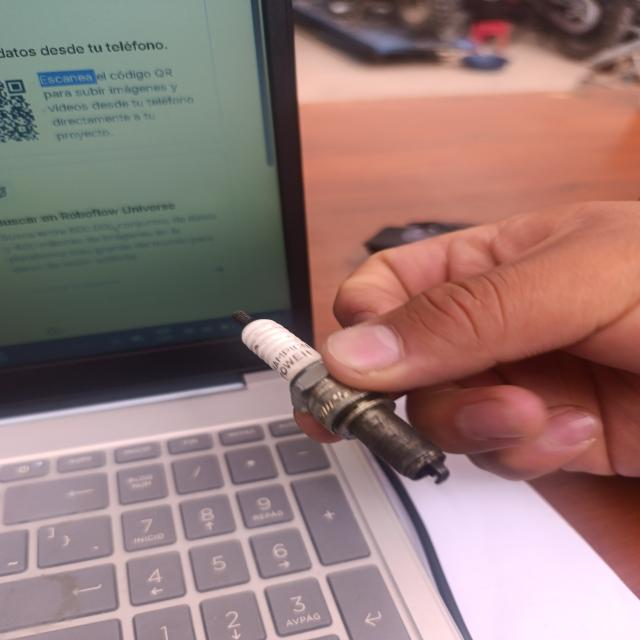bujia: (232, 311, 449, 483)
